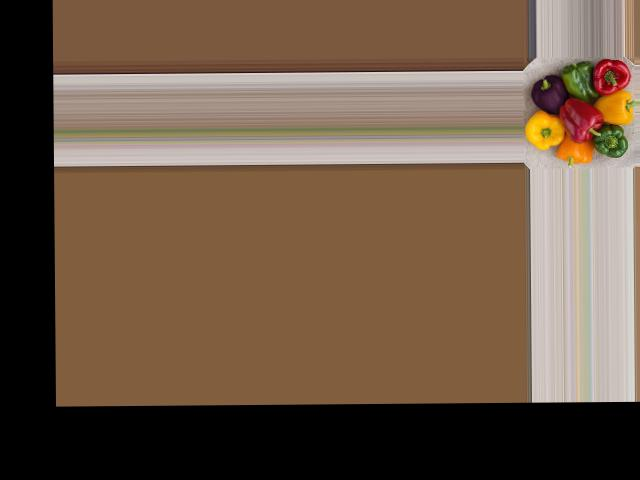bell_pepper: (532, 64, 575, 115)
